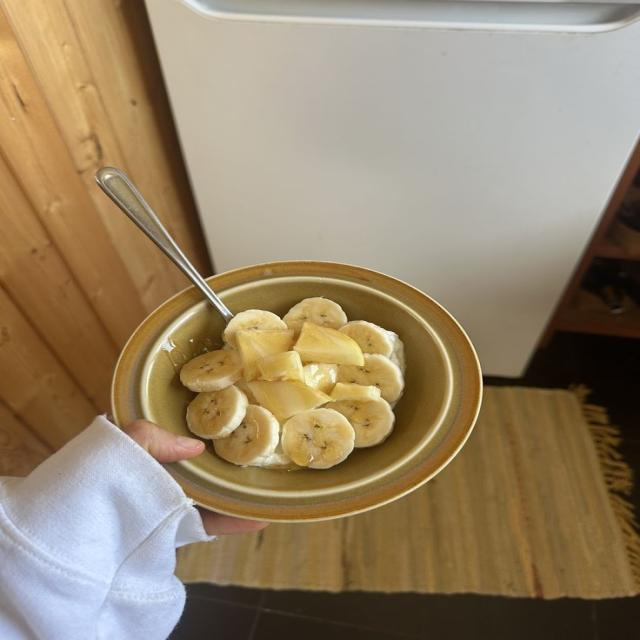banana slice: (281, 408, 354, 468), (214, 405, 279, 465), (187, 385, 247, 439), (249, 380, 330, 420), (329, 399, 394, 448), (339, 354, 404, 402), (294, 323, 363, 365), (180, 350, 242, 392), (283, 297, 346, 336), (223, 310, 287, 348), (340, 321, 397, 356), (256, 351, 304, 382), (303, 363, 338, 393), (329, 383, 380, 401), (234, 378, 259, 404)
